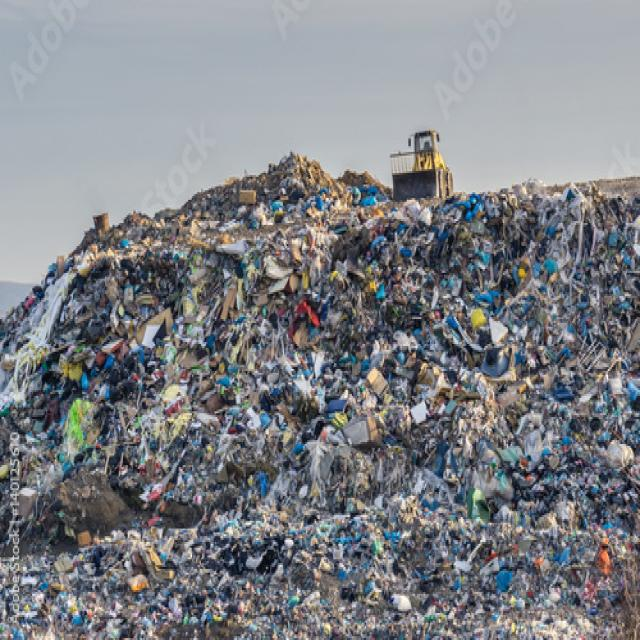trash: (91, 240, 608, 569), (72, 592, 610, 636), (250, 184, 402, 225)
